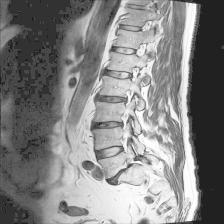disc: (90, 142, 129, 163), (102, 62, 132, 86), (110, 44, 140, 58), (124, 1, 152, 14), (117, 22, 146, 34)
hdisc: (92, 92, 133, 110), (89, 117, 126, 135)
